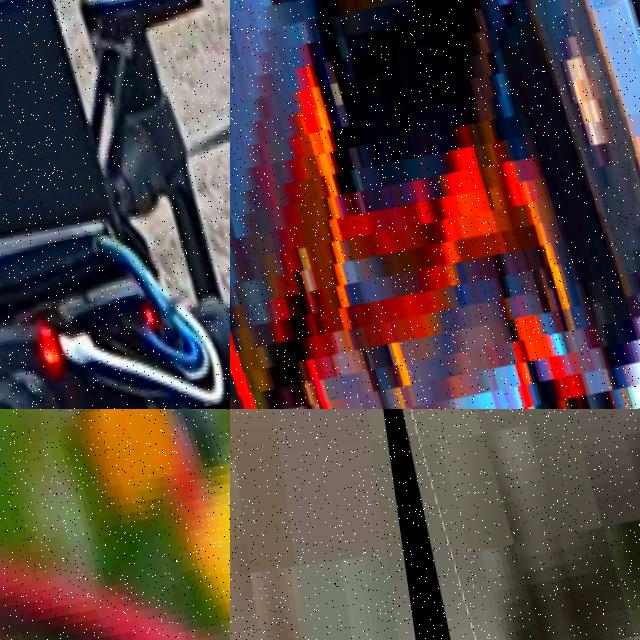0: (343, 409, 640, 640)
drone: (230, 0, 640, 409), (0, 0, 230, 409), (0, 409, 230, 640)
